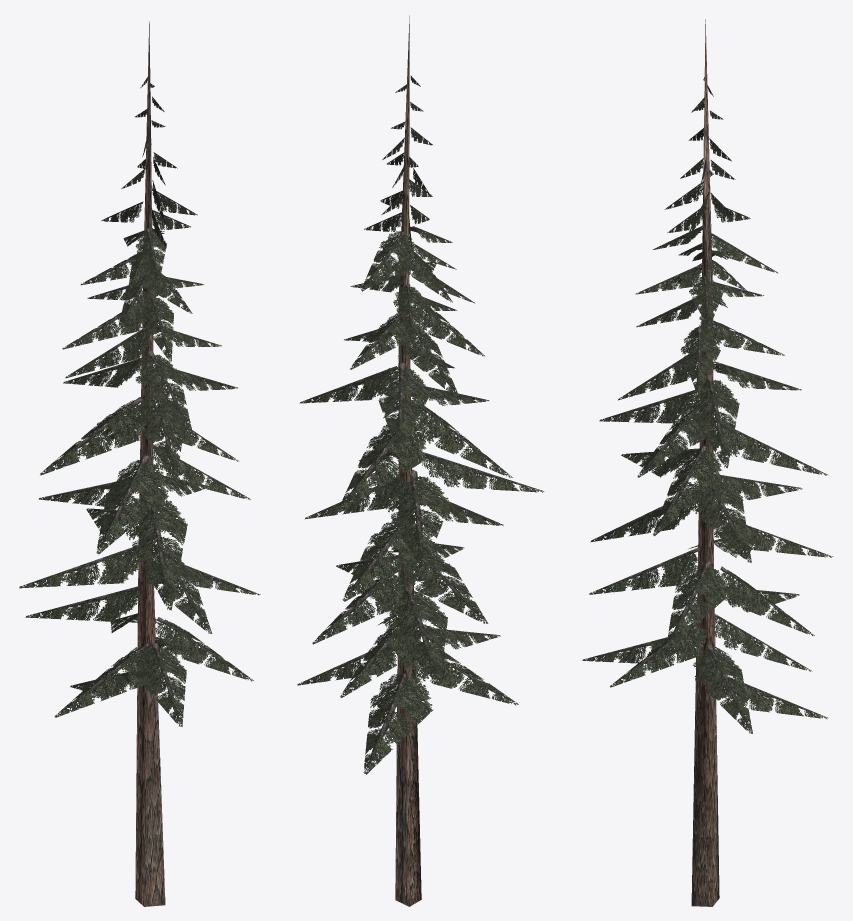
Rendered from conf_mtns_sparse_l2.fbx.
3 views of the same model, side by side, from view 1: azimuth 30°, elevation 25°; view 2: azimuth 150°, elevation 25°; view 3: azimuth 270°, elevation 25° (orthographic).
Visible parts, largest first — view 1: mesh_node; view 2: mesh_node; view 3: mesh_node.
Boxes of the visible parts, <box> form: mesh_node: <box>19,21,260,906</box>; mesh_node: <box>297,15,544,906</box>; mesh_node: <box>582,19,833,906</box>.
Size of the model in its own units: 5.36 by 21.34 by 5.67.
Materials: 2 (2 with a texture image).
